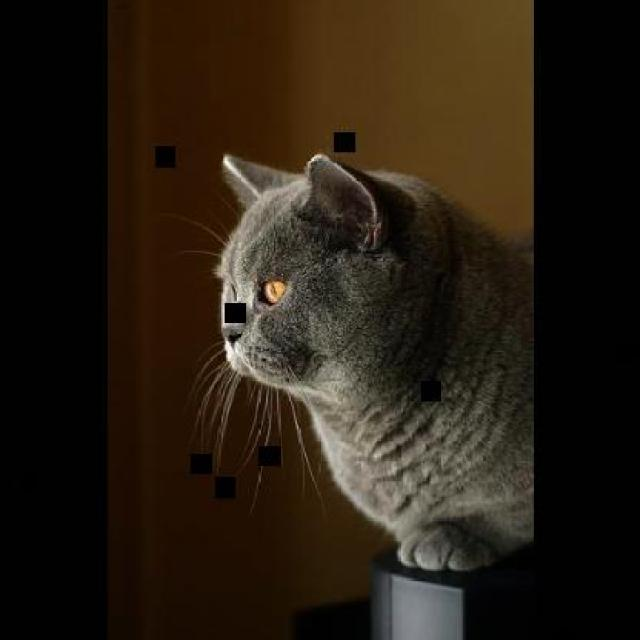unauthorized: (175, 150, 534, 572)
